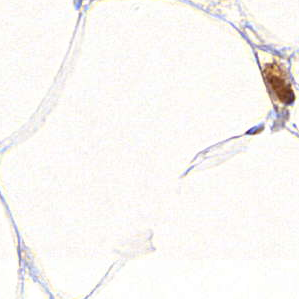Lymphocyte: (261, 60, 296, 106)
